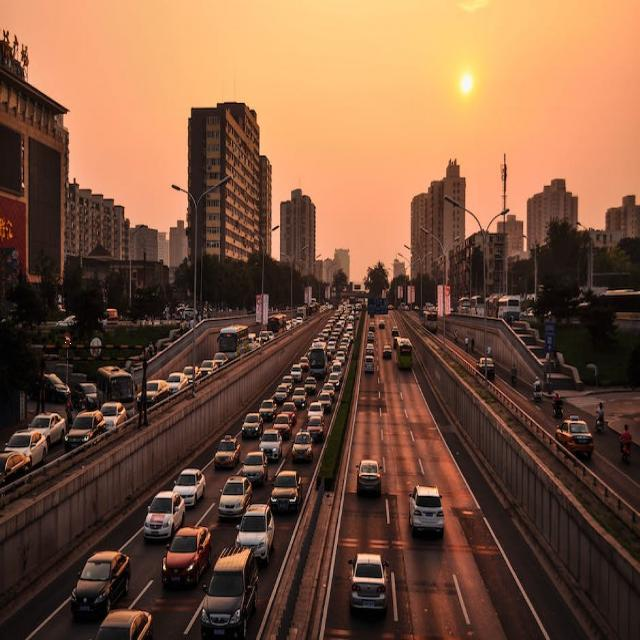no entry: (64, 332, 72, 345)
